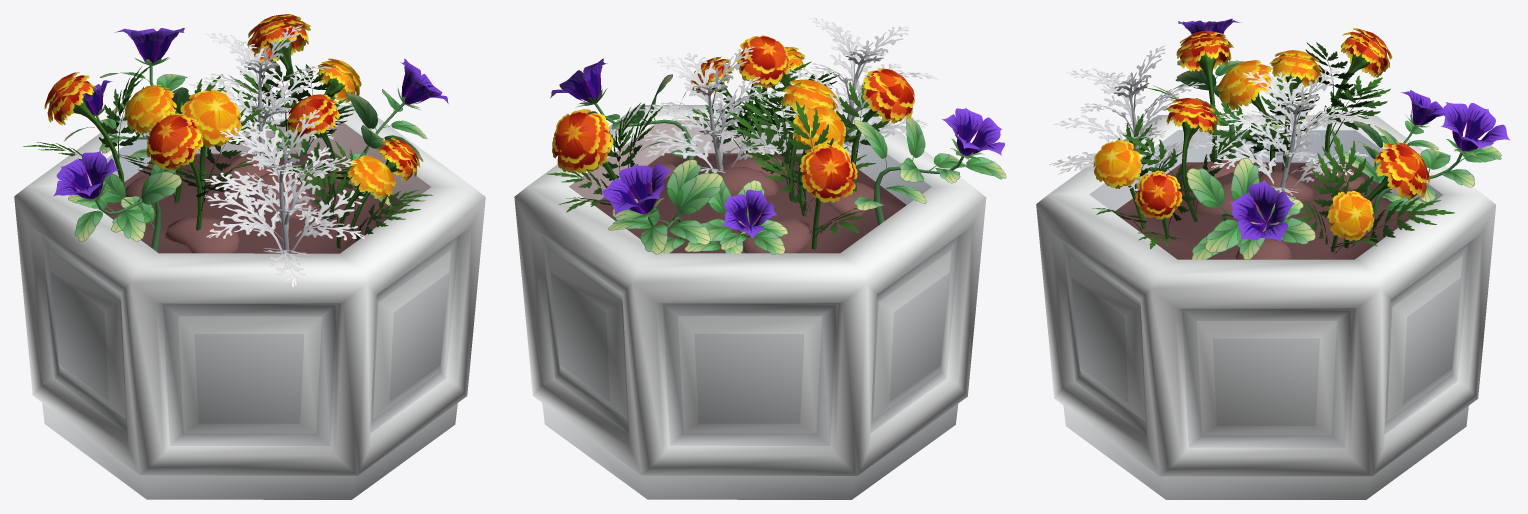
File: flowerbed1.glb
The picture shows the model from 3 angles, left to right: view 1: azimuth 30°, elevation 25°; view 2: azimuth 150°, elevation 25°; view 3: azimuth 270°, elevation 25°; orthographic projection. The views are drawn at different scales.
Parts seen in each view (by area): view 1: Flowerbed, Flowers(light); view 2: Flowerbed, Flowers(light); view 3: Flowerbed, Flowers(light).
Boxes of the visible parts, left/top/right/bottom form: Flowerbed: left=14, top=105, right=485, bottom=499; Flowers(light): left=23, top=14, right=448, bottom=287; Flowerbed: left=514, top=105, right=986, bottom=499; Flowers(light): left=547, top=17, right=1006, bottom=254; Flowerbed: left=1036, top=115, right=1495, bottom=499; Flowers(light): left=1049, top=18, right=1510, bottom=259.
Size of what is drawn, in the model's own units: 5.37 by 4.47 by 5.4.
Materials: 2 (2 with a texture image).
